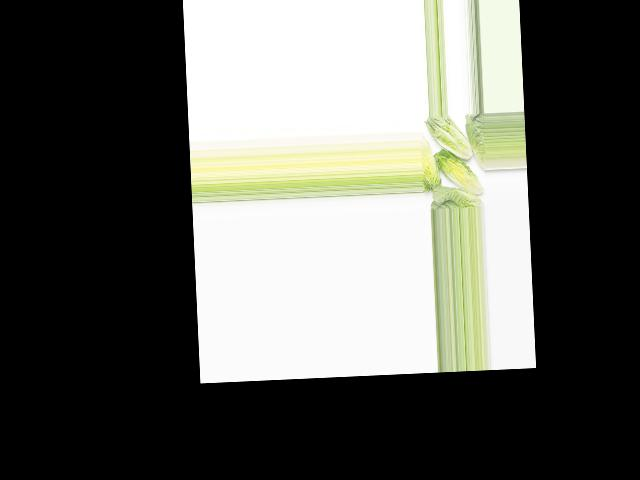lettuce: (429, 182, 482, 210)
